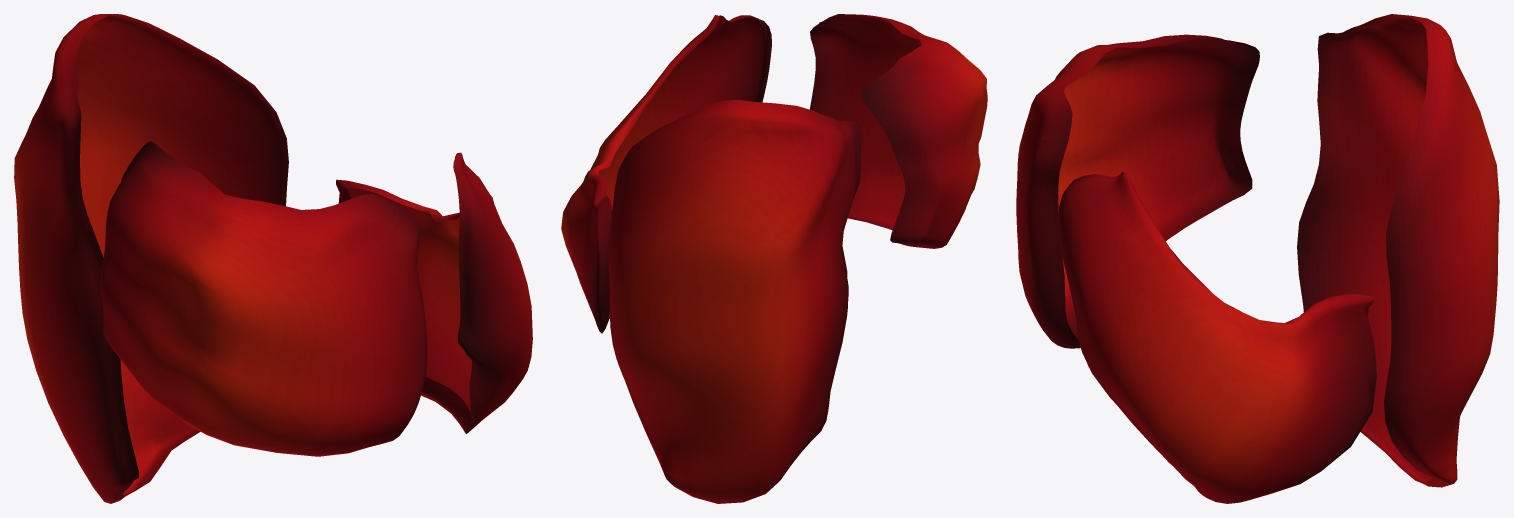
The model's file is Rock Left Leg Bottom.fbx.
3 views of the same model, side by side, from view 1: azimuth 30°, elevation 25°; view 2: azimuth 150°, elevation 25°; view 3: azimuth 270°, elevation 25° (orthographic). The views are drawn at different scales.
Parts seen in each view (by area): view 1: Rodilla_Izquierda, Gemelo_Izquierdo, Tibia_Exterior_Izquierda; view 2: Gemelo_Izquierdo, Rodilla_Izquierda, Tibia_Exterior_Izquierda; view 3: Gemelo_Izquierdo, Tibia_Exterior_Izquierda, Rodilla_Izquierda.
Boxes of the visible parts, <box> form: Rodilla_Izquierda: <box>101,141,427,456</box>; Gemelo_Izquierdo: <box>14,14,288,503</box>; Tibia_Exterior_Izquierda: <box>336,152,532,433</box>; Gemelo_Izquierdo: <box>609,100,861,503</box>; Rodilla_Izquierda: <box>810,14,987,248</box>; Tibia_Exterior_Izquierda: <box>561,15,771,333</box>; Gemelo_Izquierdo: <box>1297,14,1499,487</box>; Tibia_Exterior_Izquierda: <box>1058,172,1376,503</box>; Rodilla_Izquierda: <box>1016,34,1259,348</box>.
Bounding box in the file's own units: 0.7436 × 0.8128 × 0.7982.
